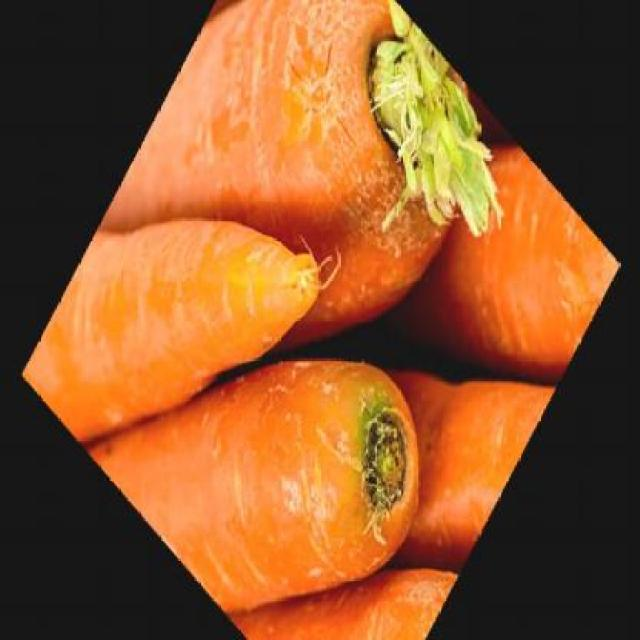carrot: (35, 122, 456, 640), (98, 0, 505, 488), (22, 90, 329, 562), (307, 242, 555, 624), (155, 338, 459, 638), (230, 0, 532, 266), (407, 123, 621, 440)
